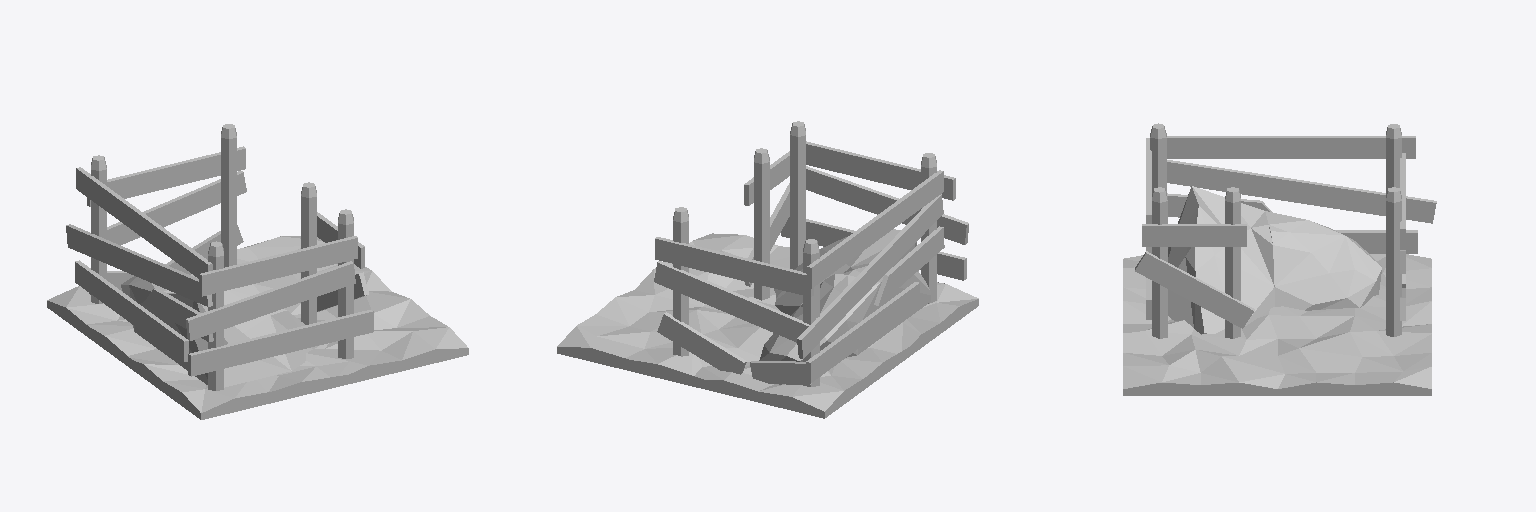
Rendered from Hayloft.obj.
3 views of the same model, side by side, from view 1: azimuth 30°, elevation 25°; view 2: azimuth 150°, elevation 25°; view 3: azimuth 270°, elevation 25° (orthographic).
Parts seen in each view (by area): view 1: Cube.015; view 2: Cube.015; view 3: Cube.015.
Boxes of the visible parts, x1=… form: Cube.015: x1=47, y1=124, x2=468, y2=419; Cube.015: x1=557, y1=121, x2=978, y2=418; Cube.015: x1=1123, y1=123, x2=1436, y2=395.
Size of the model in its own units: 4.02 by 2.31 by 4.06.